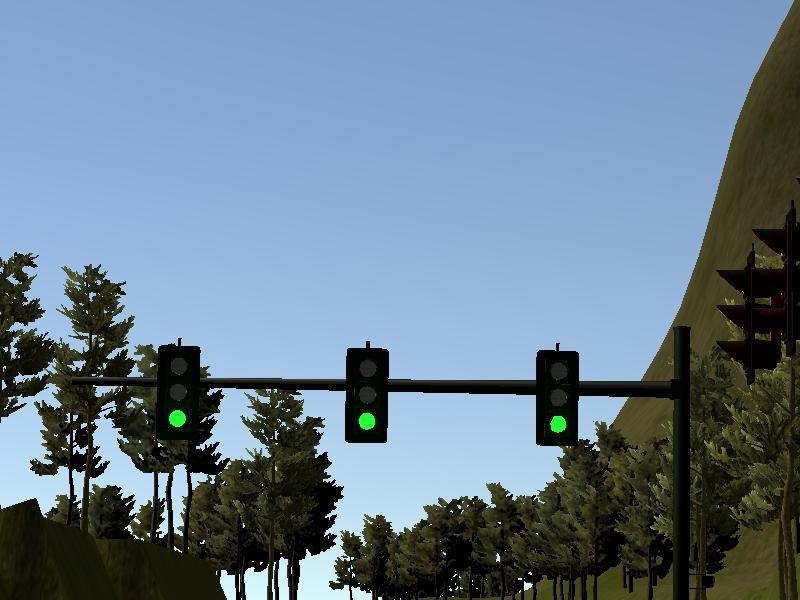traffic_light_green: (130, 337, 673, 448)
